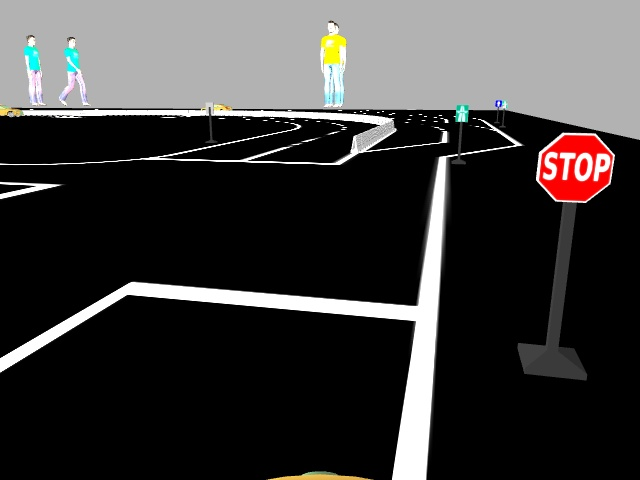Stop: (532, 127, 618, 203)
